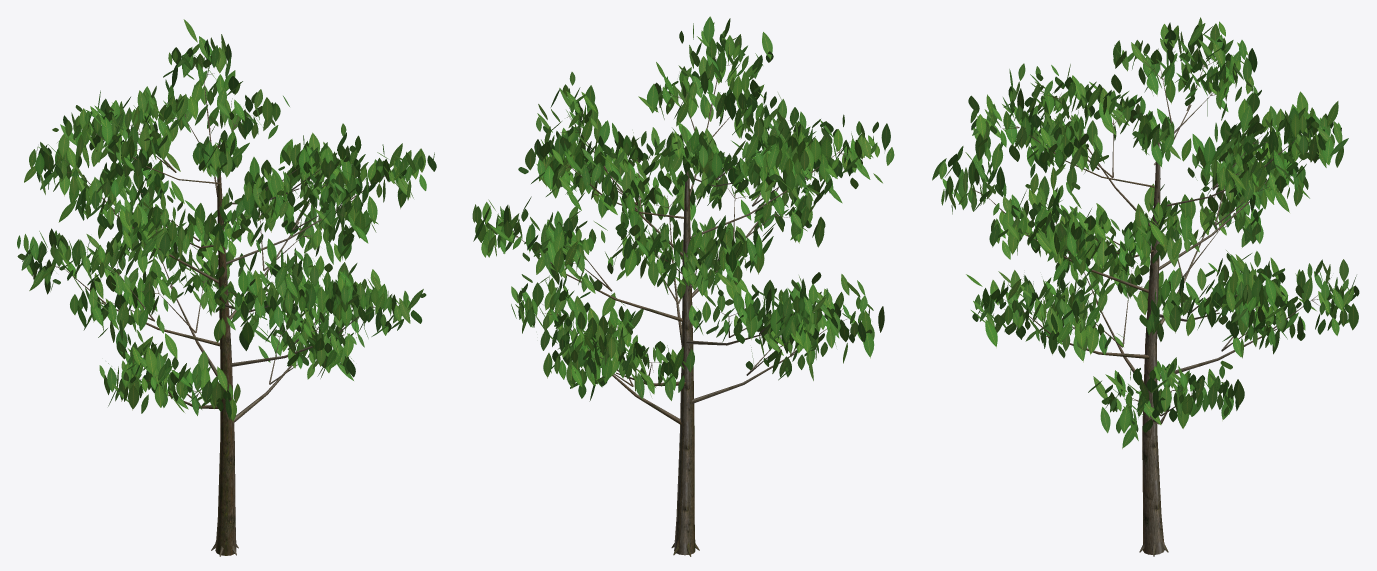
File: birch-hero.gltf
3 views of the same model, side by side, from view 1: azimuth 30°, elevation 25°; view 2: azimuth 150°, elevation 25°; view 3: azimuth 270°, elevation 25° (orthographic). The views are drawn at different scales.
Size of the model in its own units: 0.8005 by 1 by 0.8216.
Materials: 2 (2 with a texture image).
